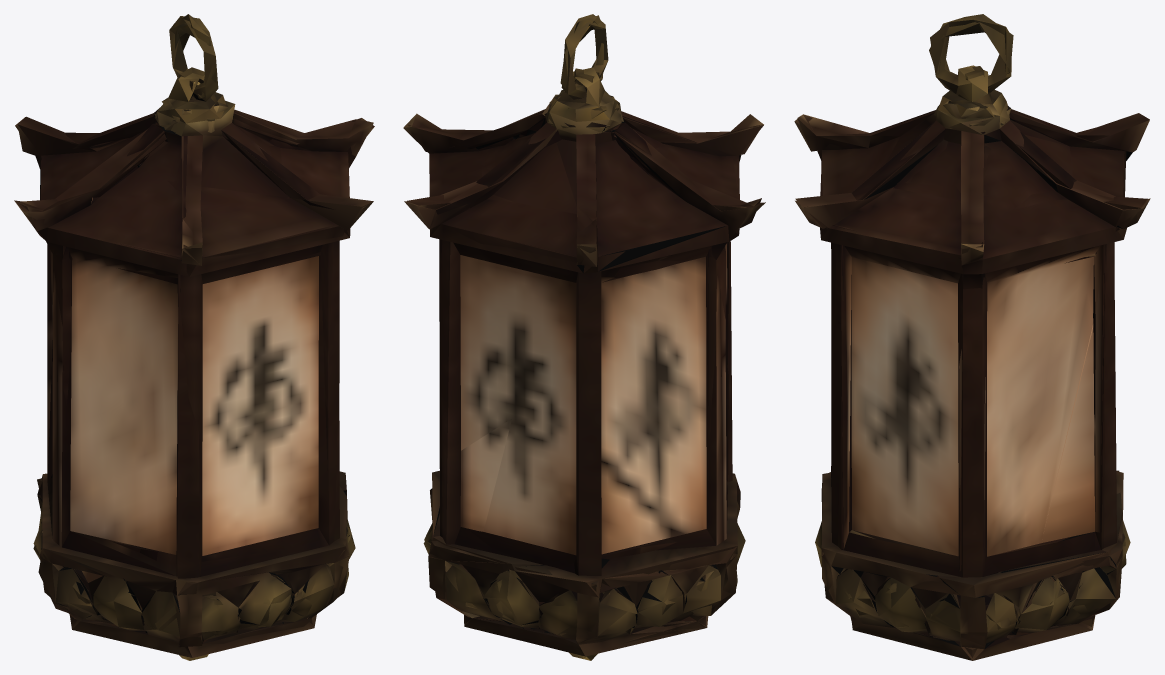
File: buddhist-lantern-lod1.fbx
3 renders of one model, left to right at view 1: azimuth 30°, elevation 25°; view 2: azimuth 150°, elevation 25°; view 3: azimuth 270°, elevation 25°, orthographic.
Visible parts, largest first — view 1: CE_buddhist-lantern_LOD1; view 2: CE_buddhist-lantern_LOD1; view 3: CE_buddhist-lantern_LOD1.
Boxes of the visible parts, left/top/right/bottom form: CE_buddhist-lantern_LOD1: left=14, top=14, right=374, bottom=660; CE_buddhist-lantern_LOD1: left=403, top=14, right=765, bottom=660; CE_buddhist-lantern_LOD1: left=794, top=14, right=1150, bottom=660.
Size of the model in its own units: 57.09 by 99.18 by 49.66.
Materials: 1 (1 with a texture image).
